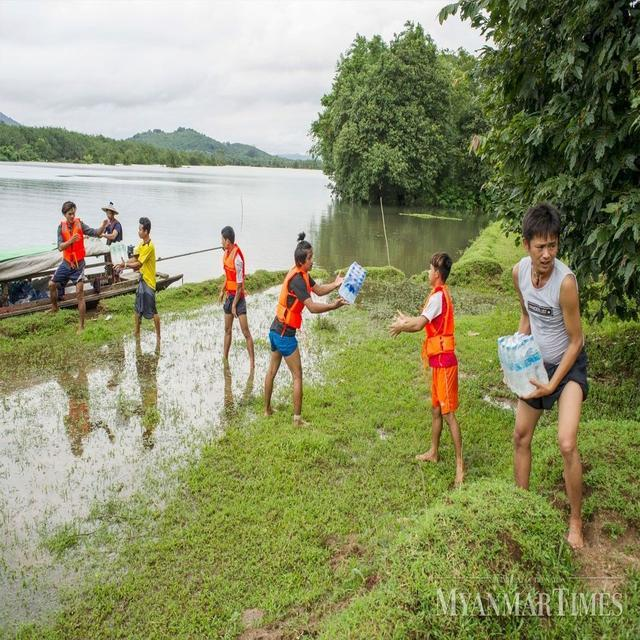Person-RiskLevel1: (496, 203, 600, 558), (382, 242, 487, 499)
Person-RiskLevel2: (265, 232, 334, 439), (117, 219, 185, 357), (44, 195, 108, 327), (215, 227, 254, 404)
